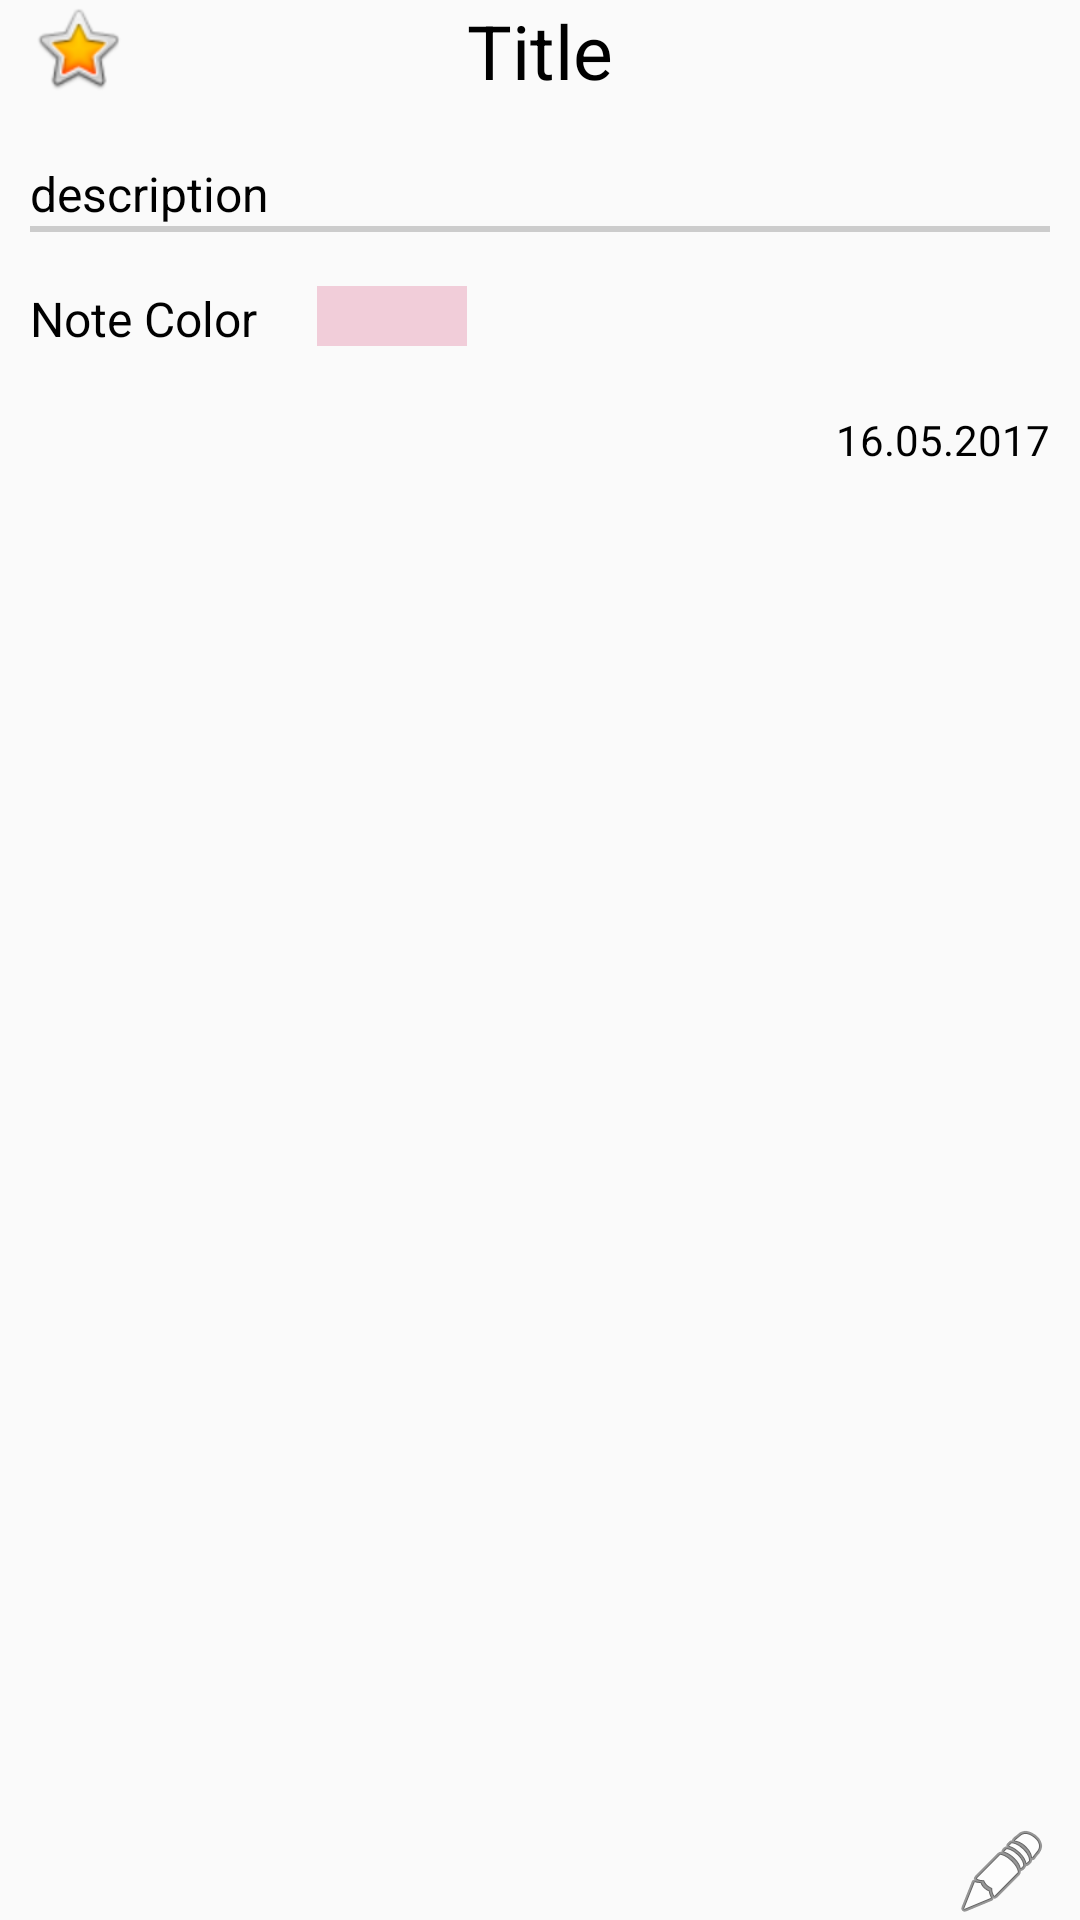

Icon click points for this 1080w x 1920h phone screenshot, format (x=x, y=y):
edit: (x=1001, y=1871)
star on: (x=79, y=49)
